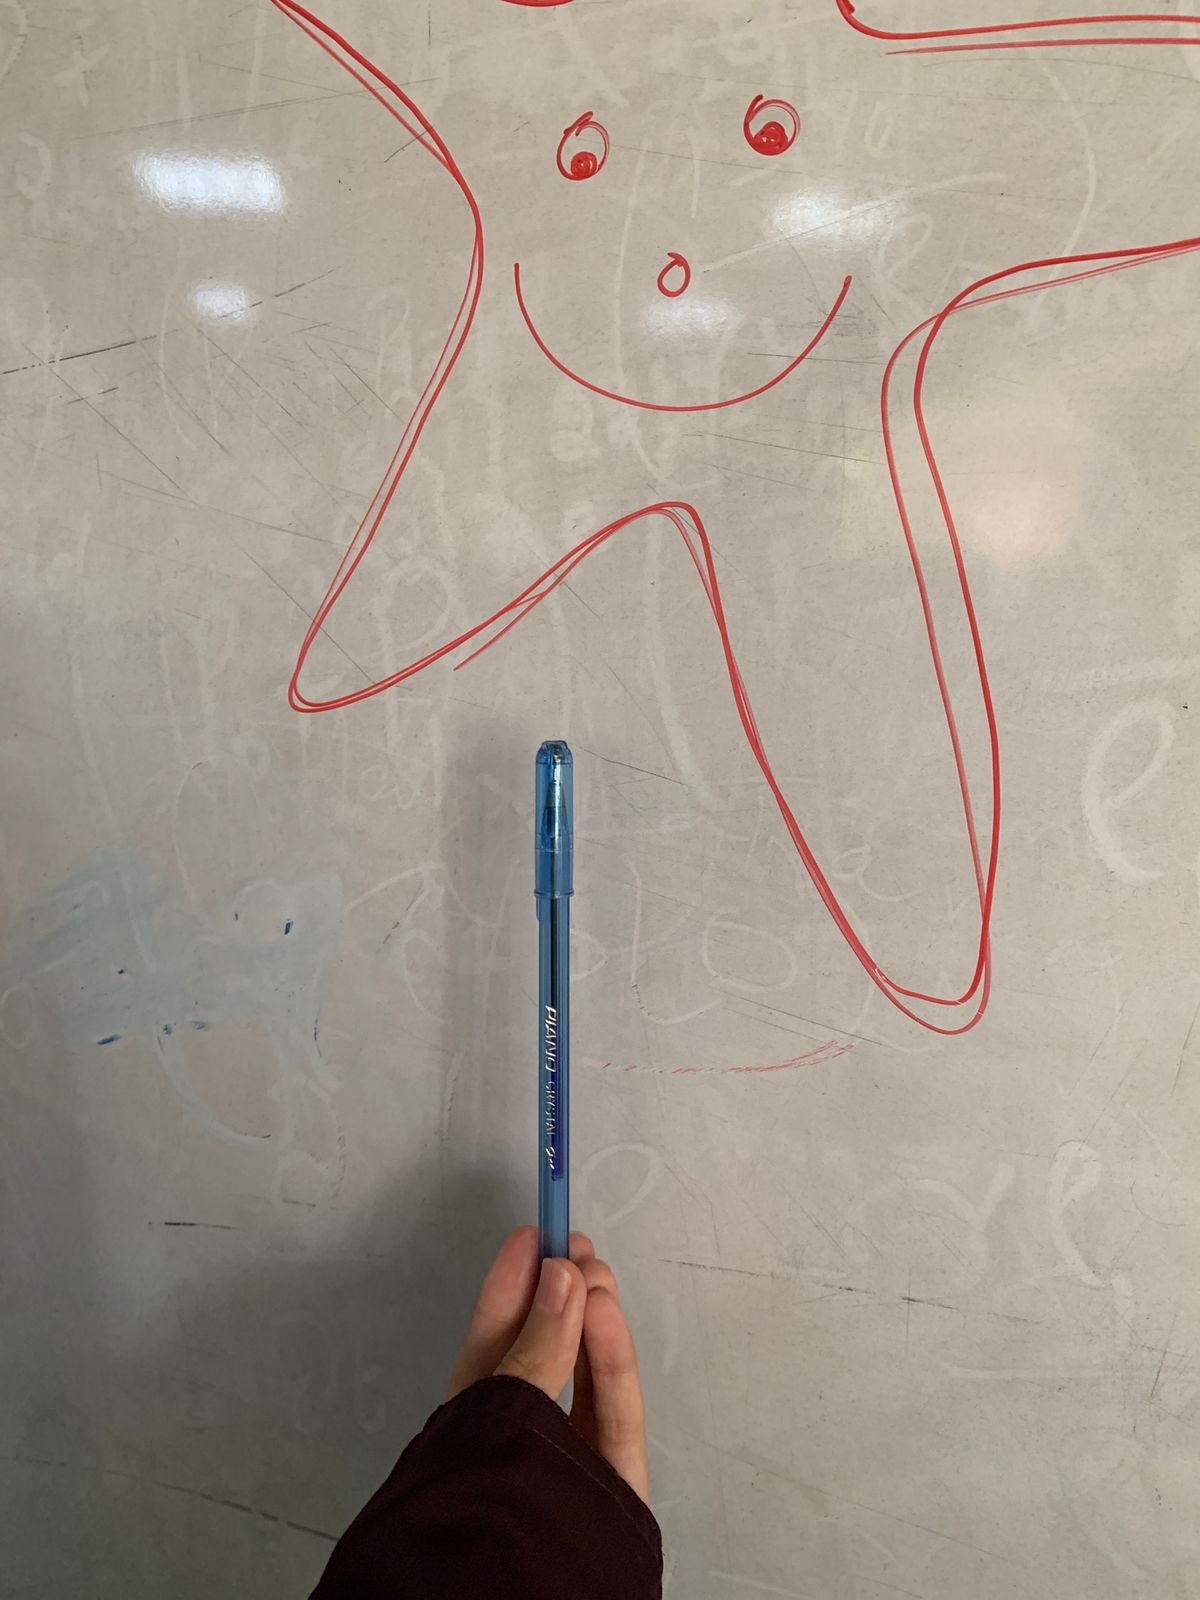pen: (363, 674, 790, 1529)
